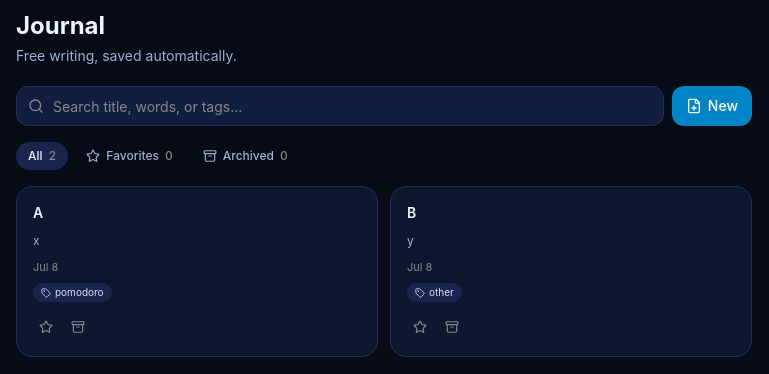
Test case: JournalHome › filters by tag through search
Type "pomodoro" into the search field named "Search entries" at [340, 106], box left=16, top=86, right=664, bottom=126
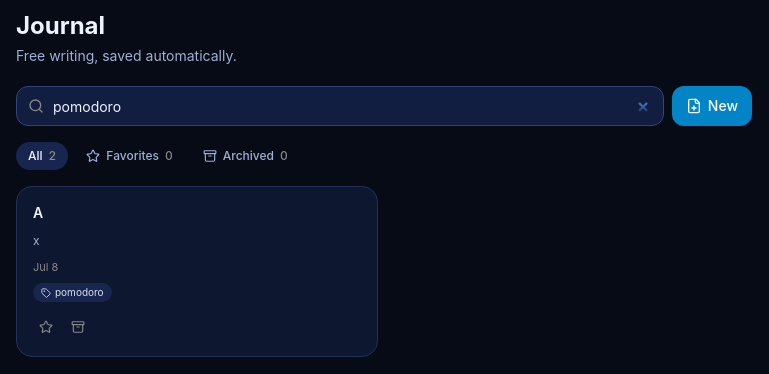
Expected: the button "A" is shown, left=33, top=203, right=43, bottom=223
Expected: the button "B" is gone
